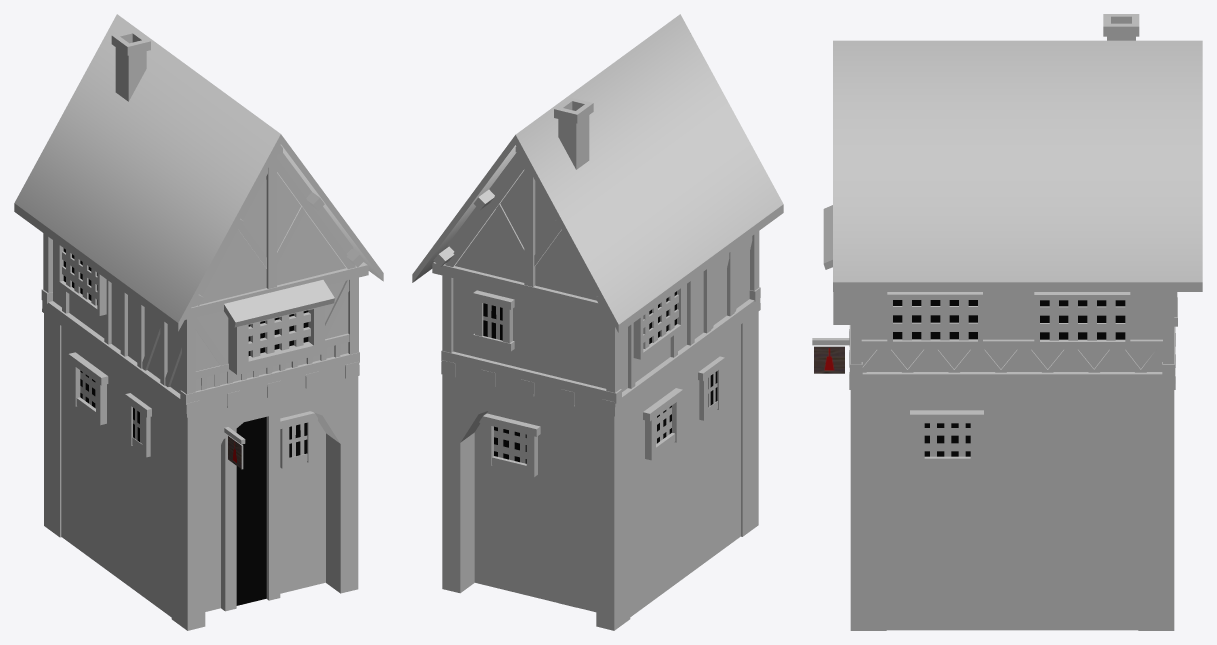
File: creamery.fbx
The picture shows the model from 3 angles, left to right: view 1: azimuth 30°, elevation 25°; view 2: azimuth 150°, elevation 25°; view 3: azimuth 270°, elevation 25°; orthographic projection. The views are drawn at different scales.
Parts seen in each view (by area): view 1: toiture, fondation, arche (×2), mur3, porte, oriel, mur2, poutre1, montant2, auvent, montant1, cage (+10 smaller); view 2: toiture, fondation, arche (×2), mur4, mur2, poutre1, poutre7, entrait1, cage, conduit, vitre (×2), pilier6 (×2) (+6 smaller); view 3: toiture, fondation, arche (×2), cage (×2), mur1, poutre3, colombage7, colombage6, pilier7 (×2), vitre, linteau1, conduit (+6 smaller).
Part boxes in pixels (x1=…): toiture: x1=14, y1=14, x2=383, y2=331; fondation: x1=61, y1=326, x2=325, y2=617; arche (×2): x1=44, y1=313, x2=358, y2=630; mur3: x1=195, y1=153, x2=353, y2=391; porte: x1=236, y1=417, x2=266, y2=605; oriel: x1=228, y1=305, x2=324, y2=374; mur2: x1=53, y1=240, x2=181, y2=393; poutre1: x1=42, y1=300, x2=200, y2=417; montant2: x1=266, y1=412, x2=280, y2=600; auvent: x1=224, y1=280, x2=334, y2=327; montant1: x1=221, y1=429, x2=236, y2=611; cage: x1=57, y1=243, x2=106, y2=315; toiture: x1=412, y1=14, x2=783, y2=333; fondation: x1=474, y1=324, x2=740, y2=616; arche (×2): x1=442, y1=311, x2=758, y2=630; mur4: x1=447, y1=152, x2=606, y2=388; mur2: x1=620, y1=241, x2=749, y2=391; poutre1: x1=601, y1=298, x2=760, y2=416; poutre7: x1=441, y1=350, x2=621, y2=403; entrait1: x1=432, y1=262, x2=608, y2=315; cage: x1=633, y1=286, x2=683, y2=359; conduit: x1=554, y1=97, x2=593, y2=607; vitre (×2): x1=483, y1=303, x2=526, y2=463; pilier6 (×2): x1=606, y1=231, x2=759, y2=392; toiture: x1=833, y1=40, x2=1202, y2=291; fondation: x1=886, y1=390, x2=1138, y2=630; arche (×2): x1=850, y1=390, x2=1174, y2=630; cage (×2): x1=887, y1=292, x2=1130, y2=347; mur1: x1=861, y1=297, x2=1162, y2=371; poutre3: x1=849, y1=367, x2=1175, y2=389; colombage7: x1=862, y1=349, x2=1094, y2=372; colombage6: x1=861, y1=339, x2=1162, y2=349; pilier7 (×2): x1=850, y1=292, x2=1174, y2=364; vitre: x1=924, y1=423, x2=970, y2=456; linteau1: x1=910, y1=410, x2=983, y2=423; conduit: x1=1103, y1=14, x2=1139, y2=40.
Bounding box in the file's own units: 606 × 1386 × 885.
